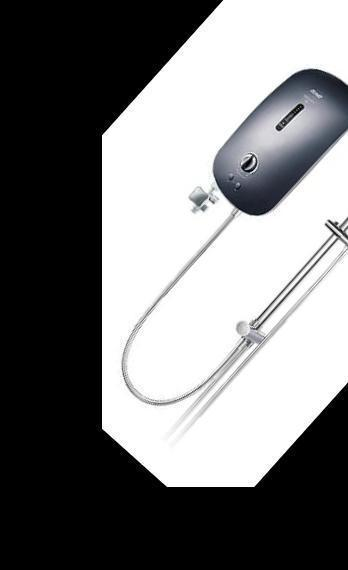Ducha: (33, 0, 348, 447)
